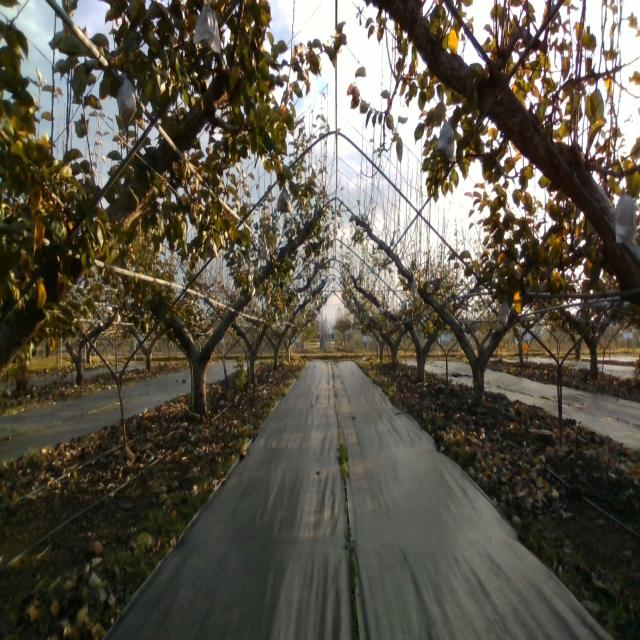pearbags: (192, 1, 221, 56), (116, 71, 137, 130), (614, 187, 636, 243), (434, 118, 458, 162), (276, 183, 292, 216), (498, 293, 510, 327), (204, 236, 218, 258)
